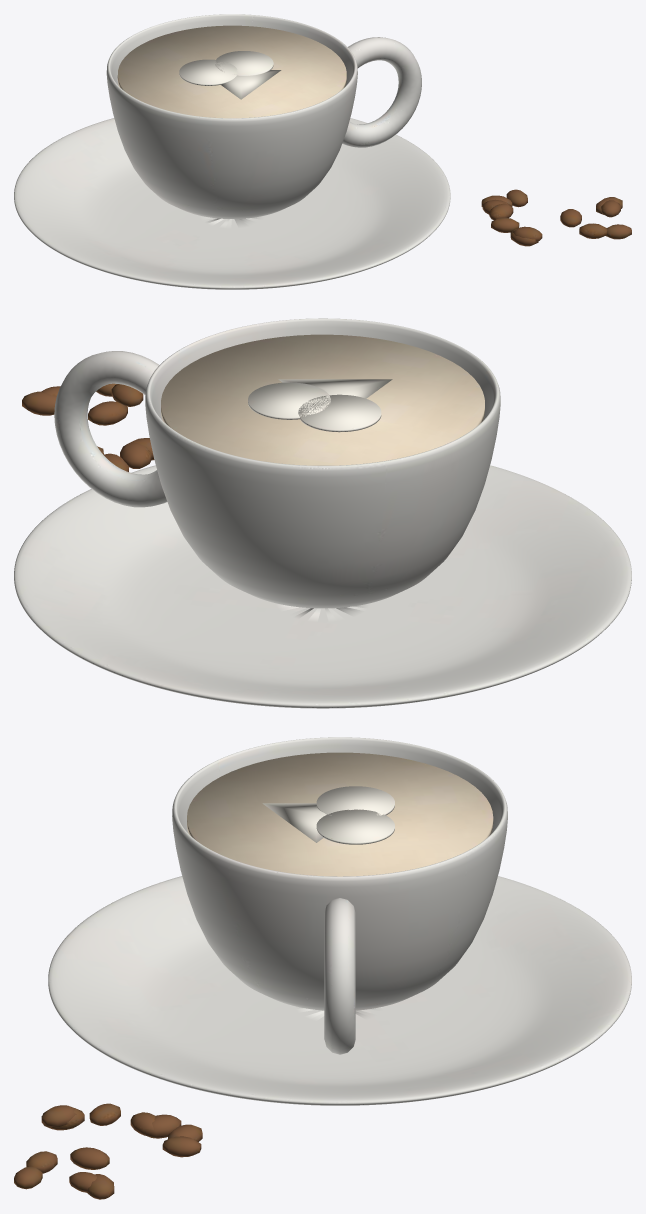
The model's file is capuchino.glb.
3 renders of one model, top to bottom at view 1: azimuth 30°, elevation 25°; view 2: azimuth 150°, elevation 25°; view 3: azimuth 270°, elevation 25°, orthographic. The views are drawn at different scales.
Parts seen in each view (by area): view 1: capuchino; view 2: capuchino; view 3: capuchino.
Boxes of the visible parts, x1,y1,x2,y2 form: capuchino: (14, 14, 631, 289); capuchino: (14, 318, 631, 708); capuchino: (14, 737, 631, 1199).
Size of the model in its own units: 0.2502 by 0.0746 by 0.2046.
1 material, 1 textured.
